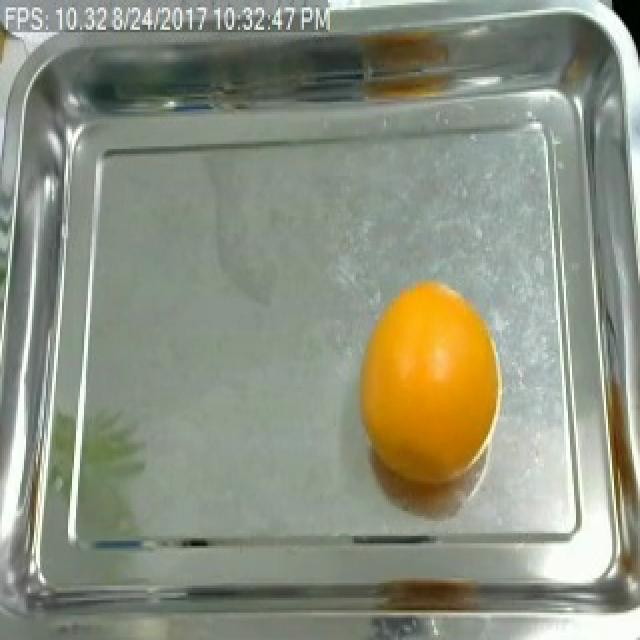Fruit: (352, 273, 508, 518)
